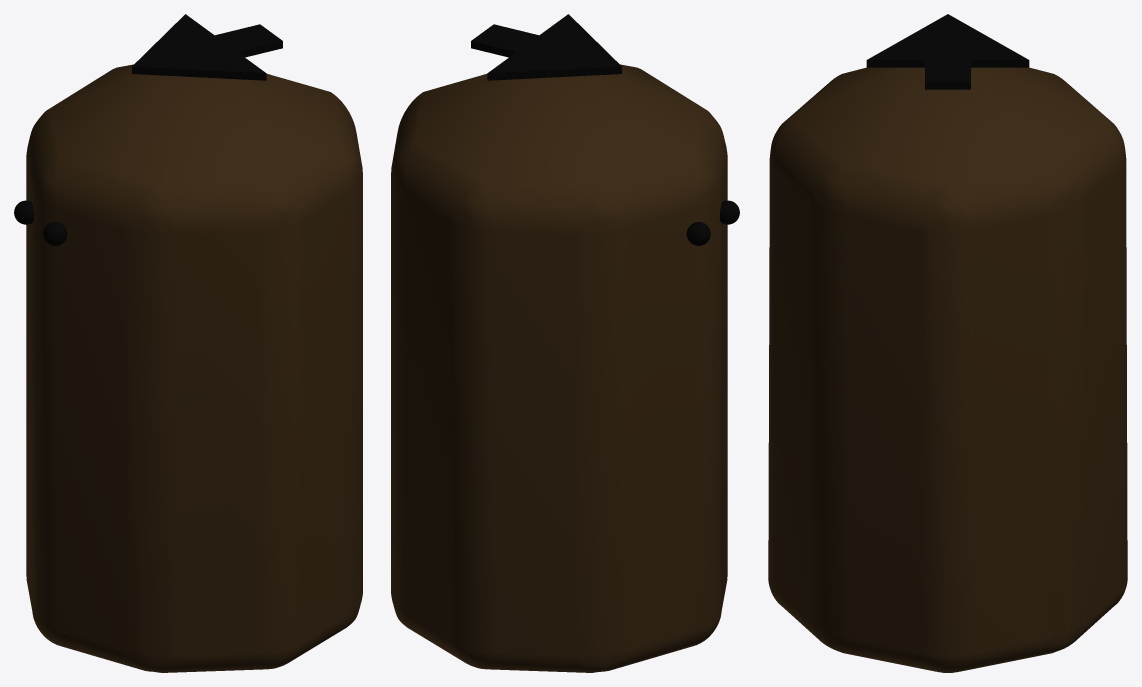
The model's file is sbrown.obj.
3 views of the same model, side by side, from view 1: azimuth 30°, elevation 25°; view 2: azimuth 150°, elevation 25°; view 3: azimuth 270°, elevation 25° (orthographic).
Parts seen in each view (by area): view 1: Cube.020_Cube.009; view 2: Cube.020_Cube.009; view 3: Cube.020_Cube.009.
Boxes of the visible parts, <box> form: Cube.020_Cube.009: <box>14,14,362,672</box>; Cube.020_Cube.009: <box>391,14,739,672</box>; Cube.020_Cube.009: <box>768,14,1127,672</box>.
Bounding box in the file's own units: 0.2642 × 0.4425 × 0.2565.
